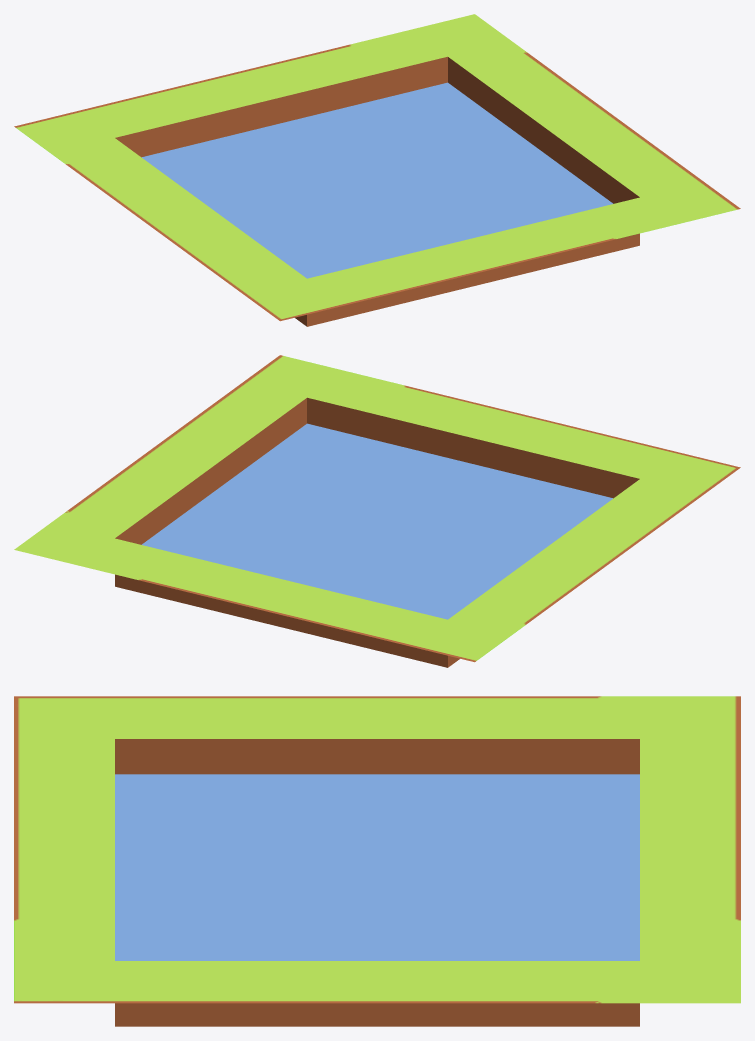
The model's file is pond.fbx.
3 renders of one model, top to bottom at view 1: azimuth 30°, elevation 25°; view 2: azimuth 150°, elevation 25°; view 3: azimuth 270°, elevation 25°, orthographic. The views are drawn at different scales.
Visible parts, largest first — view 1: Pond, Water; view 2: Pond, Water; view 3: Pond, Water.
Boxes of the visible parts, x1,y1,x2,y2 form: Pond: (14,14,740,326); Water: (142,82,613,278); Pond: (14,355,740,667); Water: (141,423,612,619); Pond: (14,696,740,1026); Water: (115,774,639,960).
Size of the model in its own units: 400 by 40 by 400.
